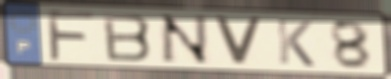8: (328, 19, 374, 71)
B: (100, 12, 155, 64)
F: (44, 8, 97, 63)
K: (274, 18, 317, 69)
N: (157, 13, 213, 66)
V: (210, 14, 266, 68)
